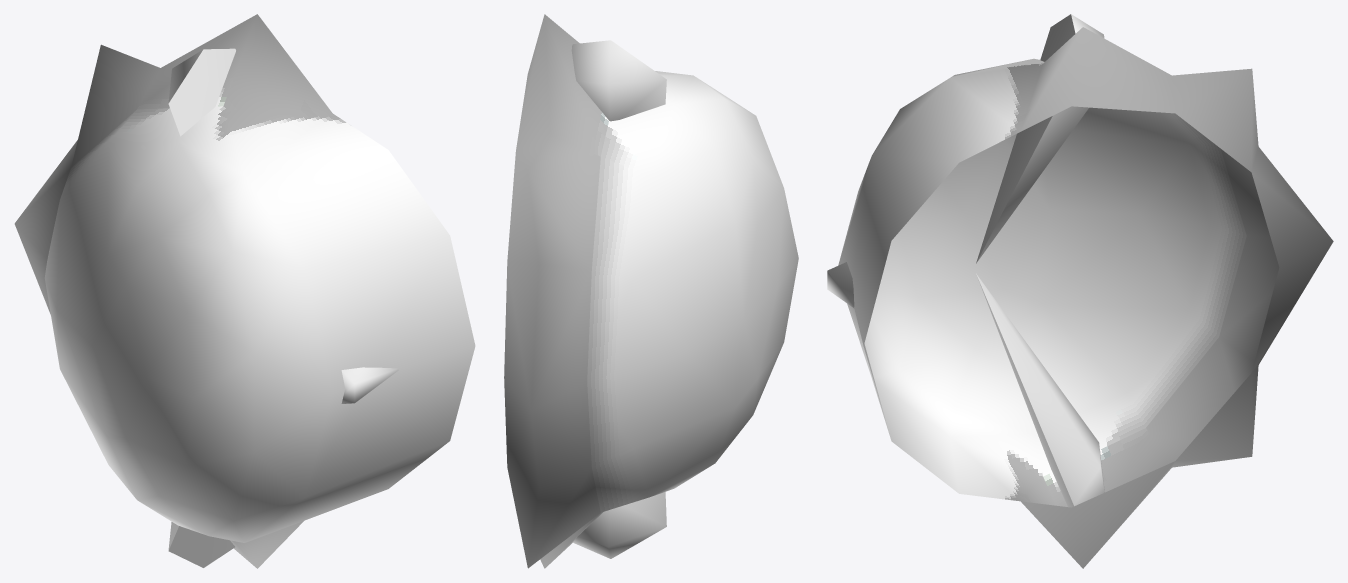
Rendered from boy11b.dae.
The picture shows the model from 3 angles, left to right: view 1: azimuth 30°, elevation 25°; view 2: azimuth 150°, elevation 25°; view 3: azimuth 270°, elevation 25°; orthographic projection. The views are drawn at different scales.
Visible parts, largest first — view 1: boy11b; view 2: boy11b; view 3: boy11b.
Boxes of the visible parts, x1,y1,x2,y2 form: boy11b: (14,14,475,568); boy11b: (504,14,798,568); boy11b: (827,14,1333,568).
Size of the model in its own units: 15.5 by 28.56 by 24.18.
Materials: 3 (1 with a texture image).
